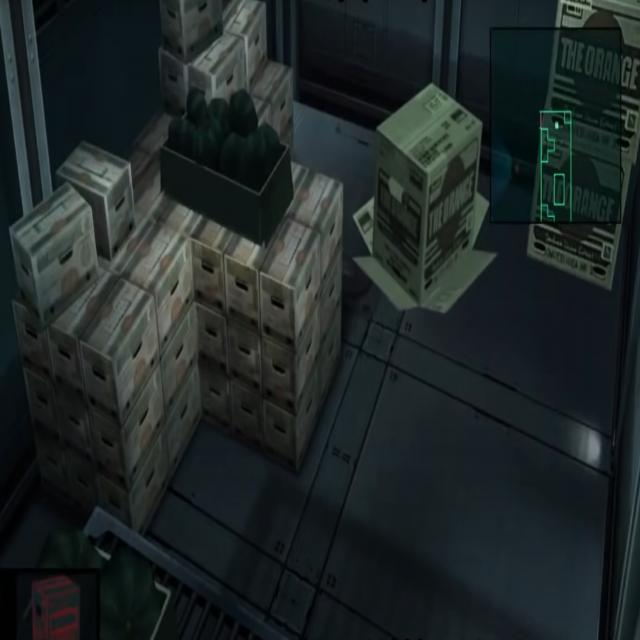snake-in-cardboard-boxes: (350, 79, 498, 334)
